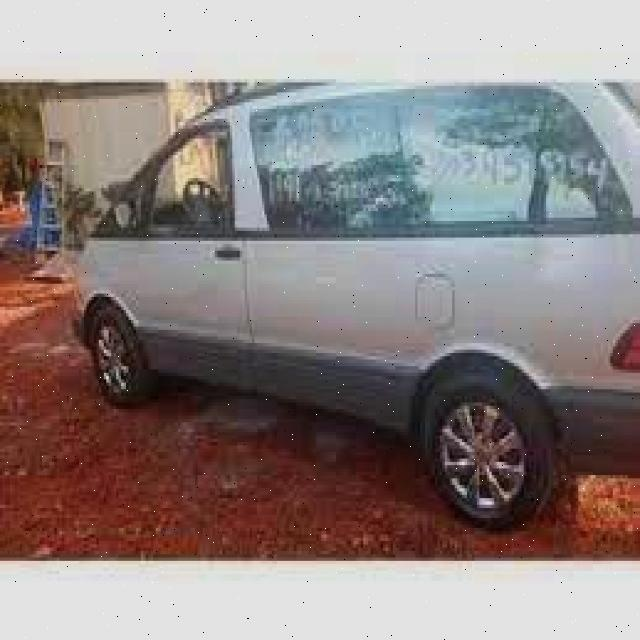Van: (66, 82, 640, 527)
